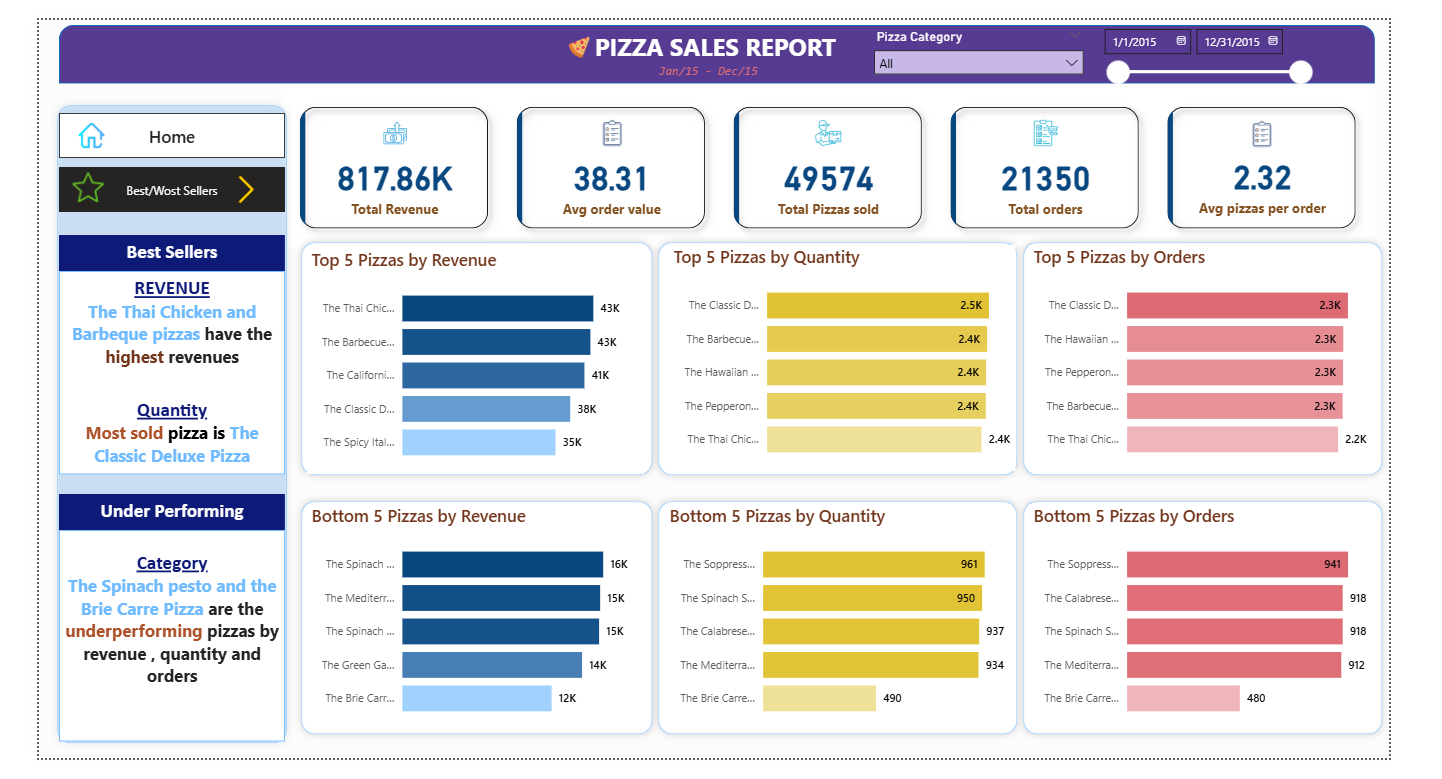

This screenshot's page, from the dashboard's own definition file:
{"tool":"powerbi","page":{"name":"Best/Wost Sellers","canvas":[1500,820],"ordinal":1},"visuals":[{"type":"cardVisual","fields":{"Data":["pizza_sales.Total Revenue","pizza_sales.Avg order value","pizza_sales.Total Pizzas sold","pizza_sales.Total orders","pizza_sales.Avg pizzas per order"]},"box":[269,75.9,1216.1,177],"z":0},{"type":"shape","box":[22.5,5,1462,65],"z":1000},{"type":"textbox","box":[547.5,5,407.5,52.5],"z":2000},{"type":"textbox","box":[635,42.5,216.2,33.8],"z":3000},{"type":"image","box":[492.5,13.8,215,33.8],"z":4000},{"type":"shape","box":[283.8,238.8,406.2,275],"z":5000},{"type":"shape","box":[12.5,86.2,271.2,725],"z":6000},{"type":"textbox","box":[22.5,238.8,251.2,40],"z":7000},{"type":"textbox","box":[22.5,278.8,251.2,226.2],"z":8000},{"type":"textbox","box":[22.5,526.2,251.2,40],"z":9000},{"type":"textbox","box":[22.5,566.2,251.2,235],"z":10000},{"type":"slicer","fields":{"Values":["pizza_sales.pizza_category"]},"box":[917.5,5,252.5,65],"z":11000},{"type":"slicer","fields":{"Values":["pizza_sales.order_date"]},"box":[1171.2,0,252.5,76.2],"z":12000},{"type":"shape","box":[1085,238.8,415,275],"z":13000},{"type":"shape","box":[680,238.8,415,275],"z":14000},{"type":"shape","box":[283.8,526.2,406.2,275],"z":15000},{"type":"shape","box":[680,526.2,415,275],"z":16000},{"type":"shape","box":[1085,526.2,415,275],"z":17000},{"type":"barChart","title":"Top 5 Pizzas by Revenue","fields":{"Category":["pizza_sales.pizza_name"],"Y":["pizza_sales.Total Revenue"]},"box":[297.5,253.8,373.8,251.2],"z":18000},{"type":"barChart","title":"Bottom 5 Pizzas by Revenue","fields":{"Category":["pizza_sales.pizza_name"],"Y":["pizza_sales.Total Revenue"]},"box":[297.5,537.5,373.8,251.2],"z":19000},{"type":"barChart","title":"Top 5 Pizzas by Quantity","fields":{"Category":["pizza_sales.pizza_name"],"Y":["pizza_sales.Total Pizzas sold"]},"box":[700,250,385,251.2],"z":20000},{"type":"barChart","title":"Bottom 5 Pizzas by Quantity","fields":{"Category":["pizza_sales.pizza_name"],"Y":["pizza_sales.Total Pizzas sold"]},"box":[695,537.5,385,251.2],"z":21000},{"type":"barChart","title":"Top 5 Pizzas by Orders","fields":{"Category":["pizza_sales.pizza_name"],"Y":["pizza_sales.Total orders"]},"box":[1100,250,385,251.2],"z":22000},{"type":"barChart","title":"Bottom 5 Pizzas by Orders","fields":{"Category":["pizza_sales.pizza_name"],"Y":["pizza_sales.Total orders"]},"box":[1100,537.5,385,251.2],"z":23000},{"type":"pageNavigator","box":[22.5,103.8,251.2,50],"z":23001},{"type":"pageNavigator","box":[22.5,163.8,251.2,50],"z":23002},{"type":"image","box":[208.8,167.5,43.8,41.2],"z":23003},{"type":"image","box":[38.8,108.8,38.8,38.8],"z":23004},{"type":"image","box":[31.2,163.8,46.2,45],"z":23005}]}

Visuals, with their boxes in screenshot pixels (x1, y1, x2, y2), scaled from the page's 1500x820 canvas onto the 1442x779 screenshot:
cardVisual - pizza_sales.Total Revenue x pizza_sales.Avg order value: x1=259 y1=72 x2=1428 y2=240
shape: x1=22 y1=5 x2=1427 y2=66
textbox: x1=526 y1=5 x2=918 y2=55
textbox: x1=610 y1=40 x2=818 y2=72
image: x1=473 y1=13 x2=680 y2=45
shape: x1=273 y1=227 x2=663 y2=488
shape: x1=12 y1=82 x2=273 y2=771
textbox: x1=22 y1=227 x2=263 y2=265
textbox: x1=22 y1=265 x2=263 y2=480
textbox: x1=22 y1=500 x2=263 y2=538
textbox: x1=22 y1=538 x2=263 y2=761
slicer - pizza_sales.pizza_category: x1=882 y1=5 x2=1125 y2=66
slicer - pizza_sales.order_date: x1=1126 y1=0 x2=1369 y2=72
shape: x1=1043 y1=227 x2=1441 y2=488
shape: x1=654 y1=227 x2=1053 y2=488
shape: x1=273 y1=500 x2=663 y2=761
shape: x1=654 y1=500 x2=1053 y2=761
shape: x1=1043 y1=500 x2=1441 y2=761
"Top 5 Pizzas by Revenue" barChart: x1=286 y1=241 x2=645 y2=480
"Bottom 5 Pizzas by Revenue" barChart: x1=286 y1=511 x2=645 y2=749
"Top 5 Pizzas by Quantity" barChart: x1=673 y1=238 x2=1043 y2=476
"Bottom 5 Pizzas by Quantity" barChart: x1=668 y1=511 x2=1038 y2=749
"Top 5 Pizzas by Orders" barChart: x1=1057 y1=238 x2=1428 y2=476
"Bottom 5 Pizzas by Orders" barChart: x1=1057 y1=511 x2=1428 y2=749
pageNavigator: x1=22 y1=99 x2=263 y2=146
pageNavigator: x1=22 y1=156 x2=263 y2=203
image: x1=201 y1=159 x2=243 y2=198
image: x1=37 y1=103 x2=75 y2=140
image: x1=30 y1=156 x2=74 y2=198
